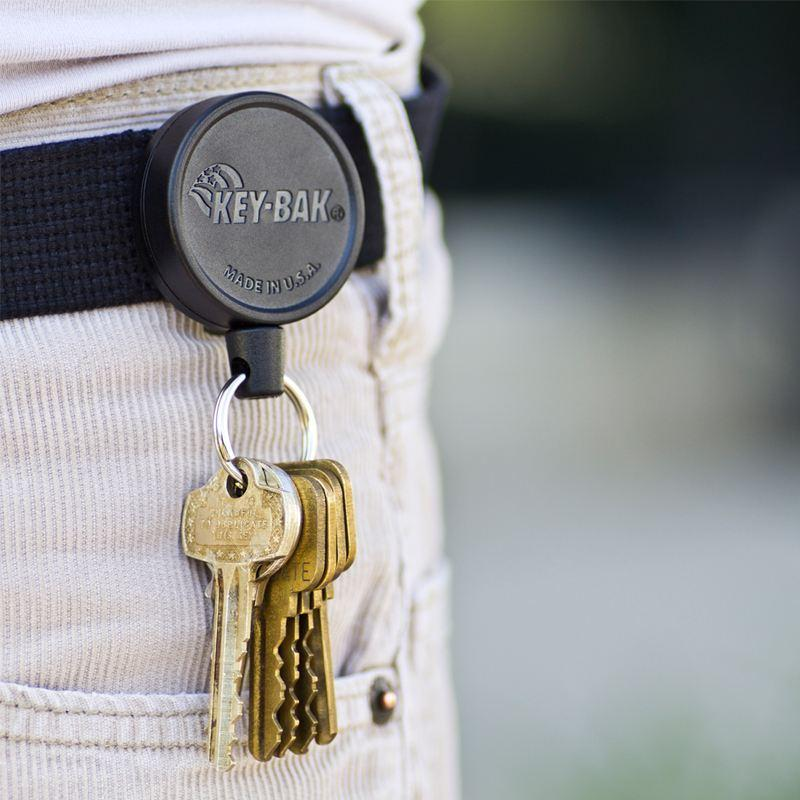key: (146, 442, 268, 779), (239, 439, 356, 753), (224, 440, 333, 761), (248, 436, 334, 769), (222, 457, 299, 774)
